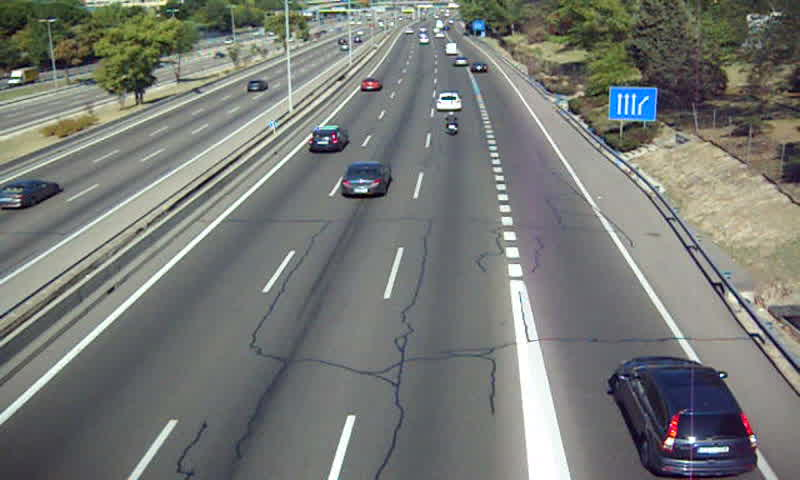car: (612, 356, 759, 477), (341, 161, 390, 198), (310, 126, 346, 151), (435, 92, 463, 112), (359, 78, 381, 93)
motorcycle: (444, 110, 461, 136)
